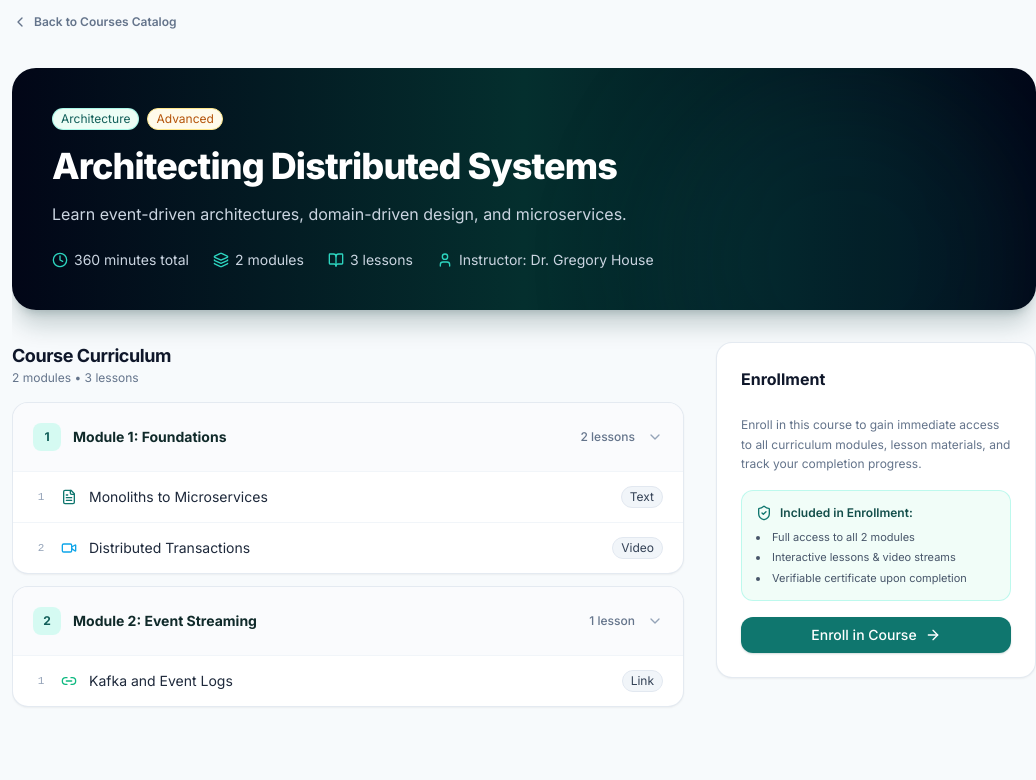
Test: CourseDetailsPage (Scenarios 9-16) › 14. successfully enrolls employee and transitions CTA to "Continue Learning"
The image size is (1036, 780).
Click the button "Enroll in Course": [876, 635] box [741,617,1011,653]
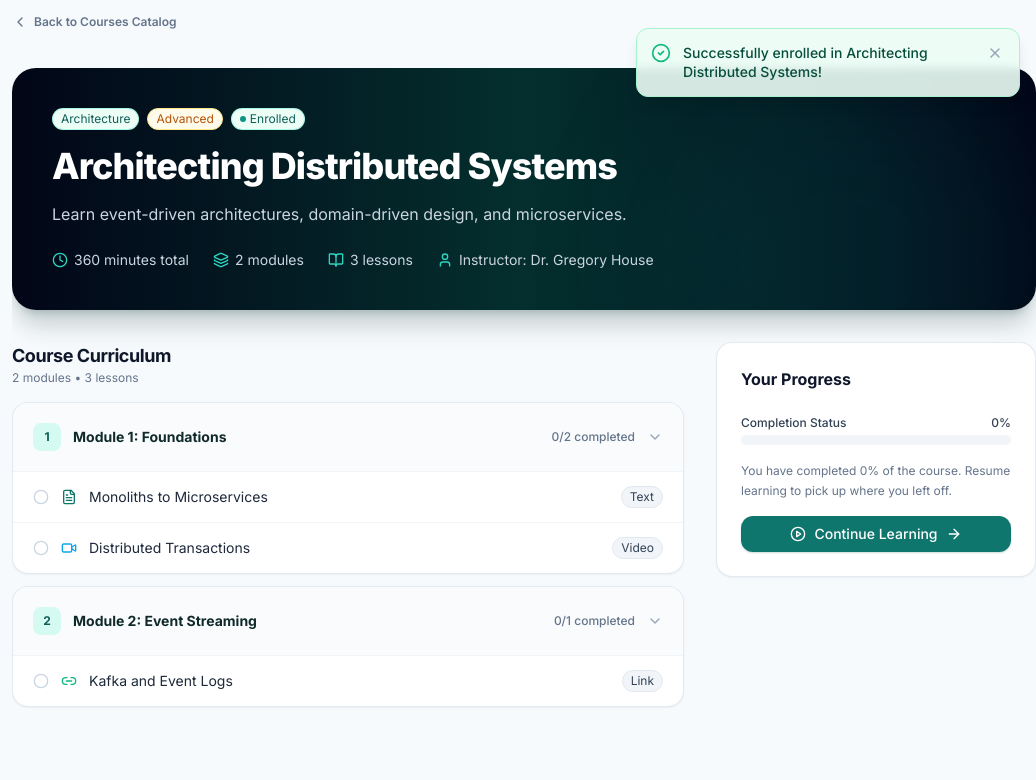
Now the button "Continue Learning" is shown, box [741,516,1011,552]
